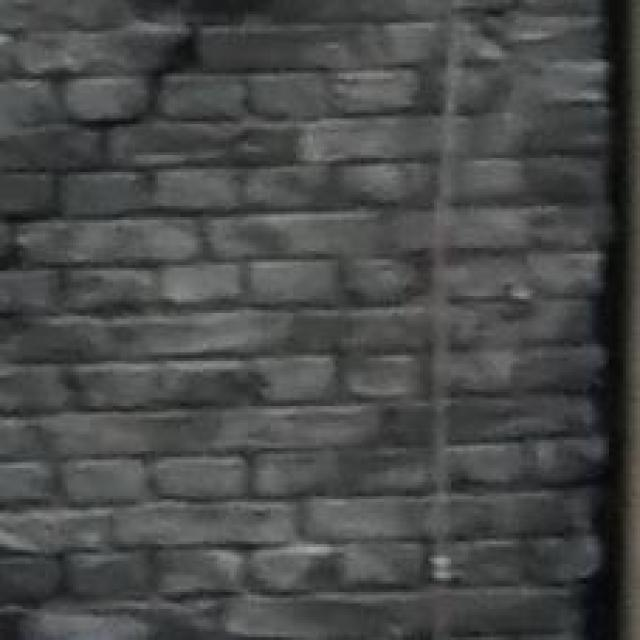Crack: (0, 0, 304, 301)
